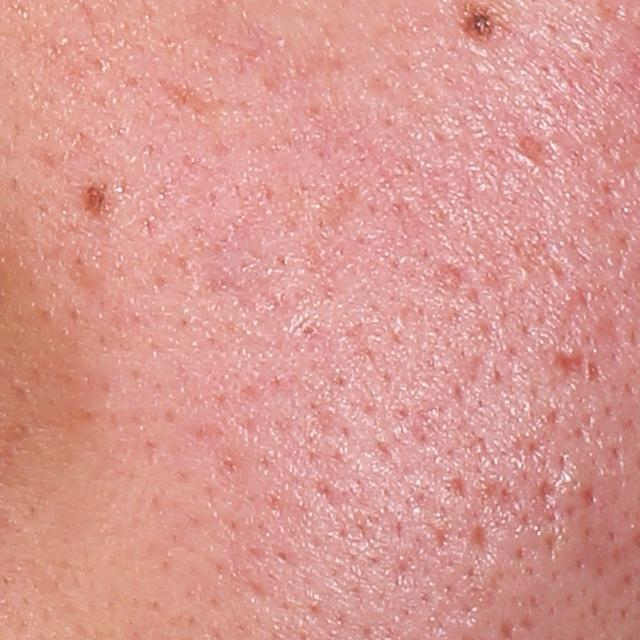atrophic_scar: (477, 477, 523, 524), (516, 134, 548, 170), (553, 351, 586, 380), (467, 523, 490, 558), (584, 355, 606, 388)
nevus: (83, 181, 108, 219)
